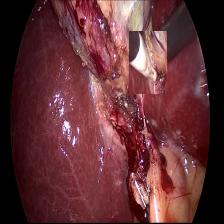Hook: (129, 31, 167, 94)
